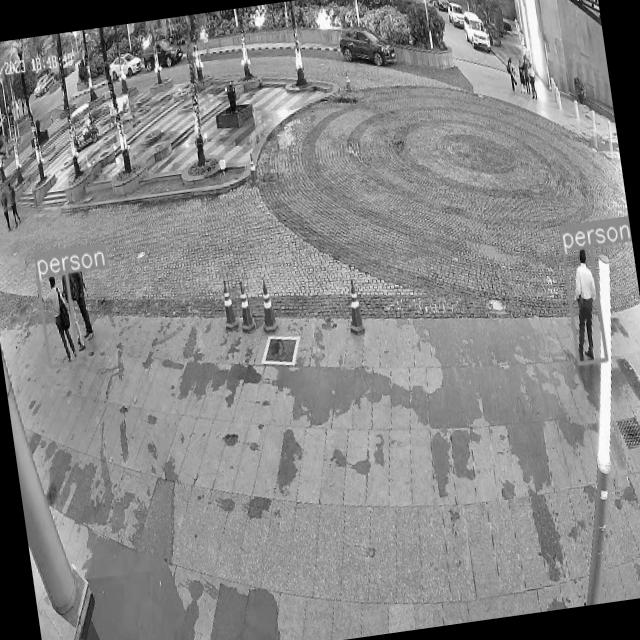person: (562, 250, 606, 366), (42, 276, 76, 362), (70, 272, 105, 348), (5, 183, 25, 230), (0, 189, 13, 231)
